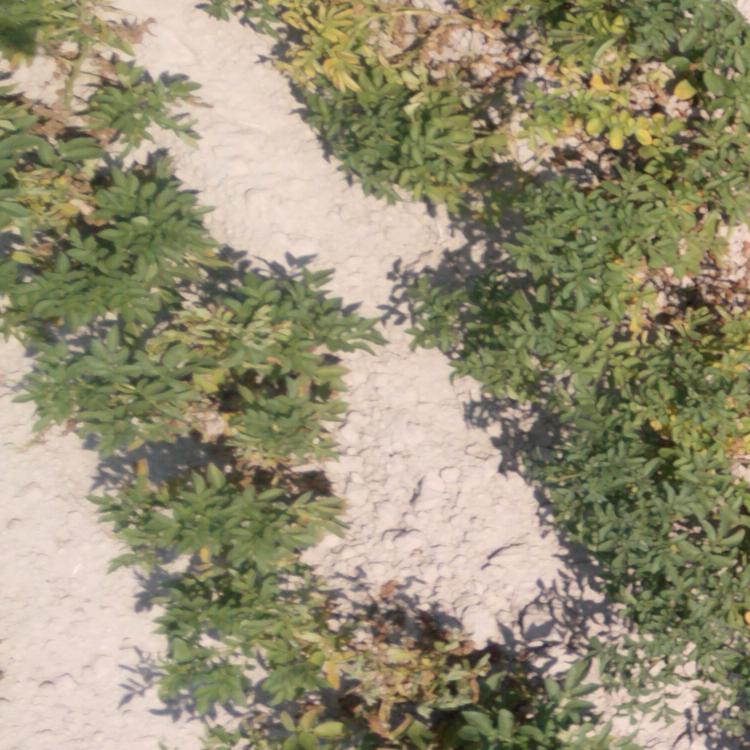healthy: (401, 203, 566, 417), (557, 465, 750, 612), (596, 620, 736, 741)
stressed: (257, 1, 739, 171), (123, 458, 343, 748), (33, 273, 322, 454), (573, 173, 749, 448), (8, 1, 181, 267), (355, 623, 558, 740)
